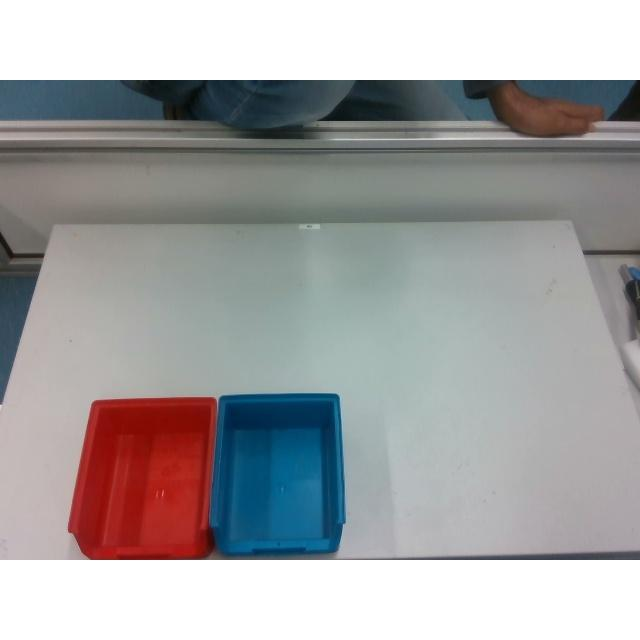container_box_blue: (212, 393, 344, 553)
container_box_red: (69, 397, 215, 557)
